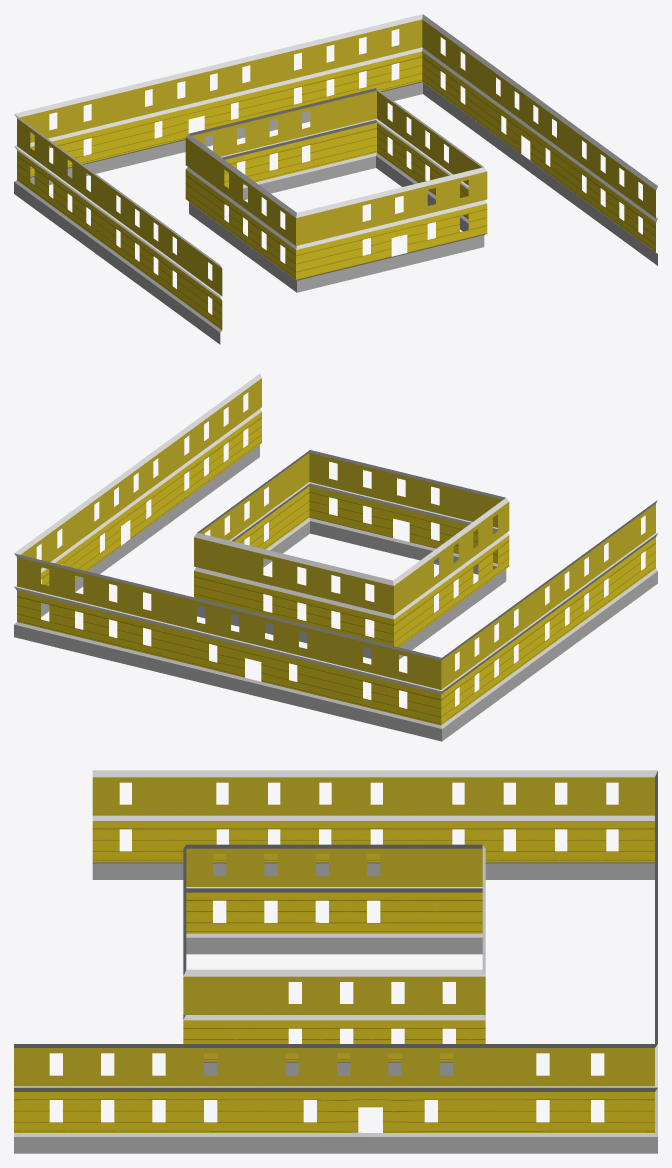
Rendered from aussenwand_01.dae.
3 views of the same model, one above another, from view 1: azimuth 30°, elevation 25°; view 2: azimuth 150°, elevation 25°; view 3: azimuth 270°, elevation 25° (orthographic). The views are drawn at different scales.
Parts seen in each view (by area): view 1: Plane.001, Plane.002; view 2: Plane.001, Plane.002; view 3: Plane.001, Plane.002.
Part boxes in pixels (bbox=[...]): Plane.001: bbox=[14, 14, 657, 344]; Plane.002: bbox=[185, 88, 487, 292]; Plane.001: bbox=[14, 373, 657, 741]; Plane.002: bbox=[194, 450, 509, 659]; Plane.001: bbox=[14, 770, 657, 1153]; Plane.002: bbox=[183, 844, 485, 1075].
Bounding box in the file's own units: 53.5 × 53.25 × 10.
